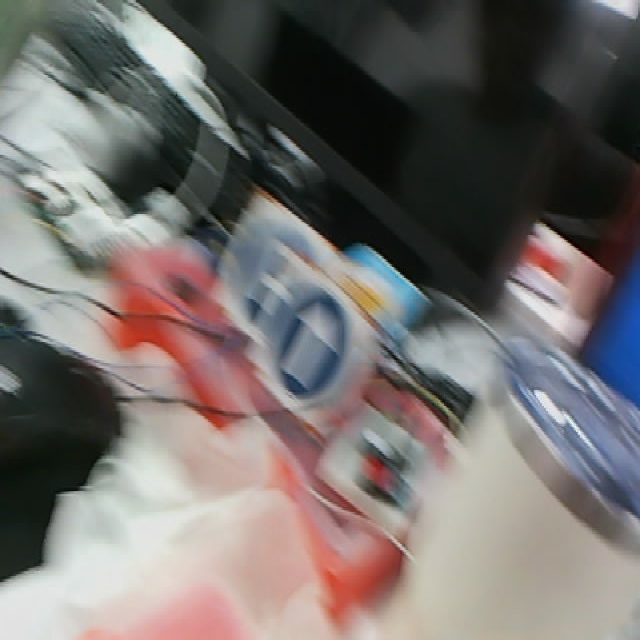straight: (249, 255, 380, 429)
